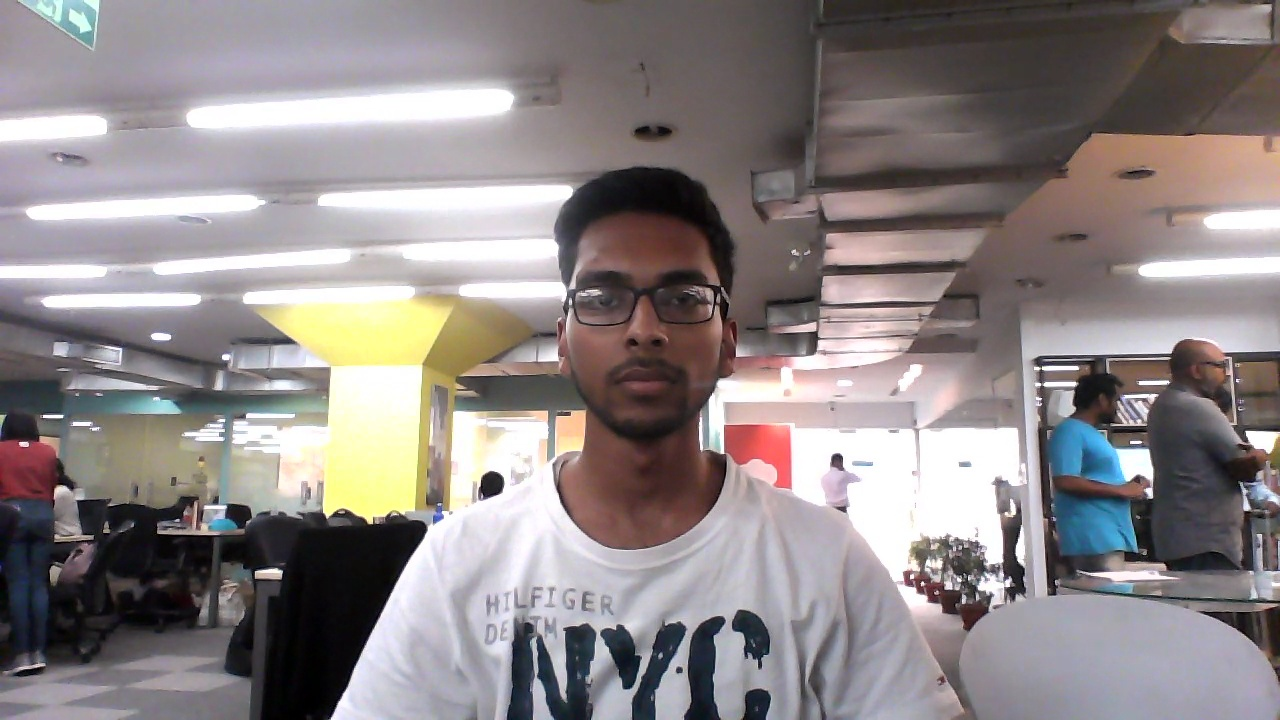open: (552, 171, 735, 448)
